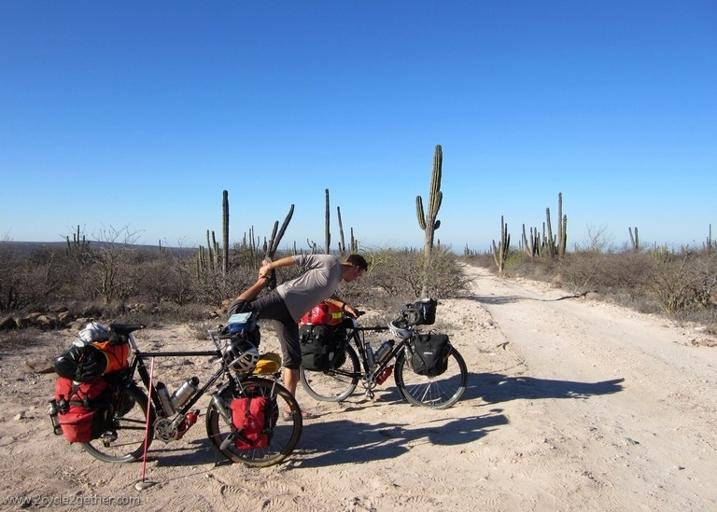non-vehicle: (54, 309, 304, 476), (291, 298, 469, 410)
